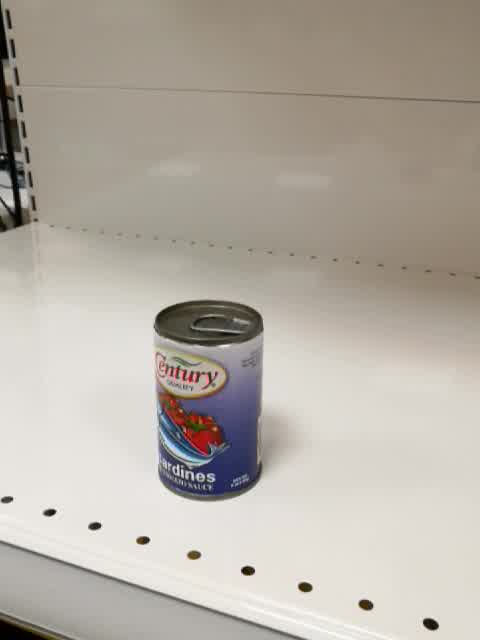sardine: (153, 300, 265, 501)
